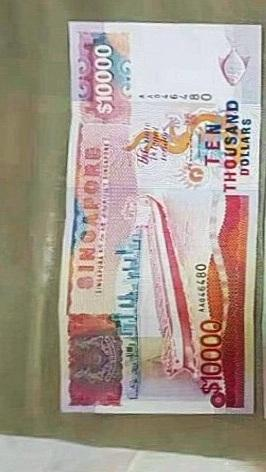10000SingaporeDollar: (70, 24, 252, 412)
